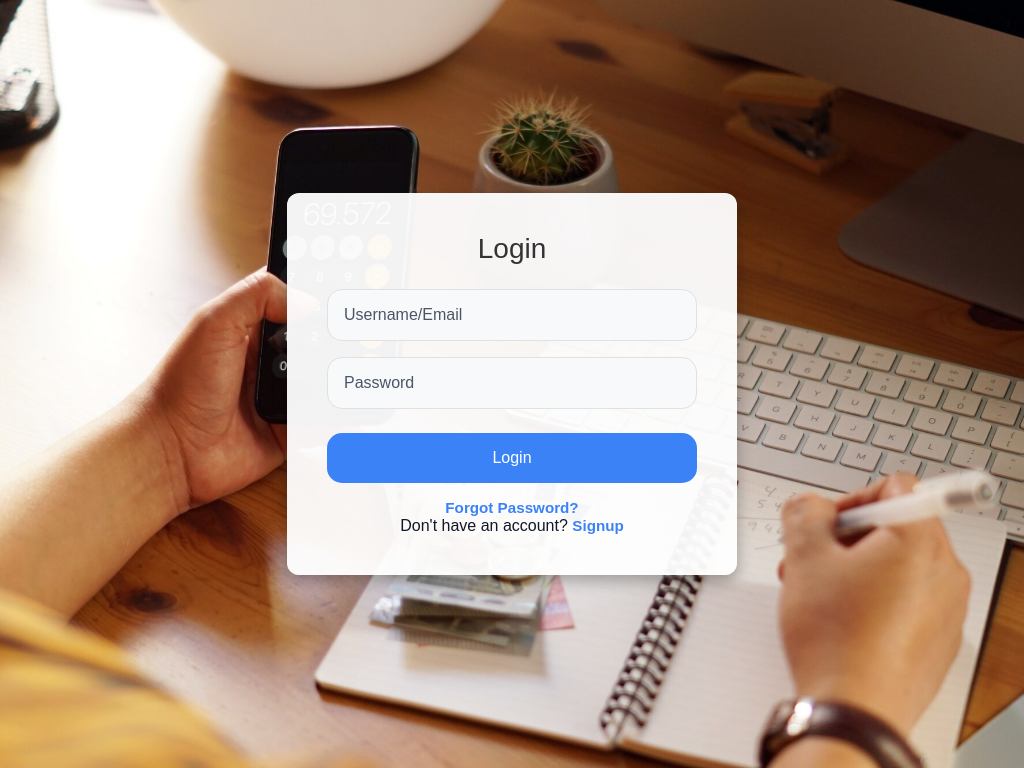
Login Page Tests › should show error for invalid email format
Enter invalid email format
Type "invalidemail" into the field with placeholder "Username/Email" at [512, 315], box [327,289,697,341]
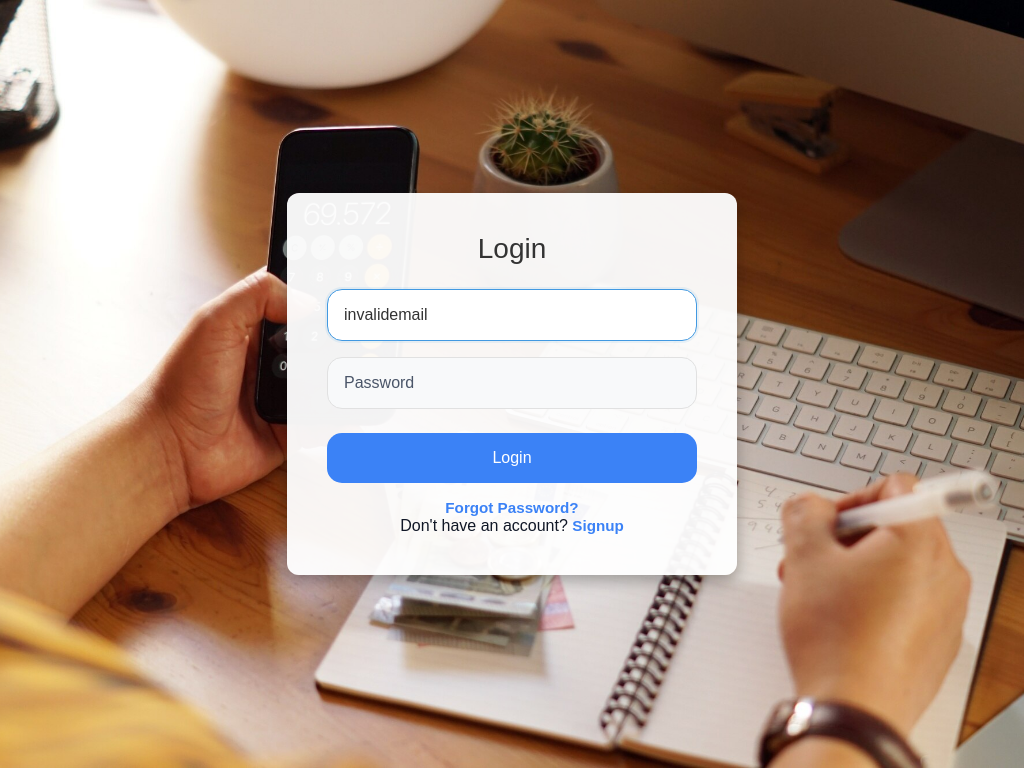
Type "password123" into the password field with placeholder "Password" at [512, 383], box [327,357,697,409]
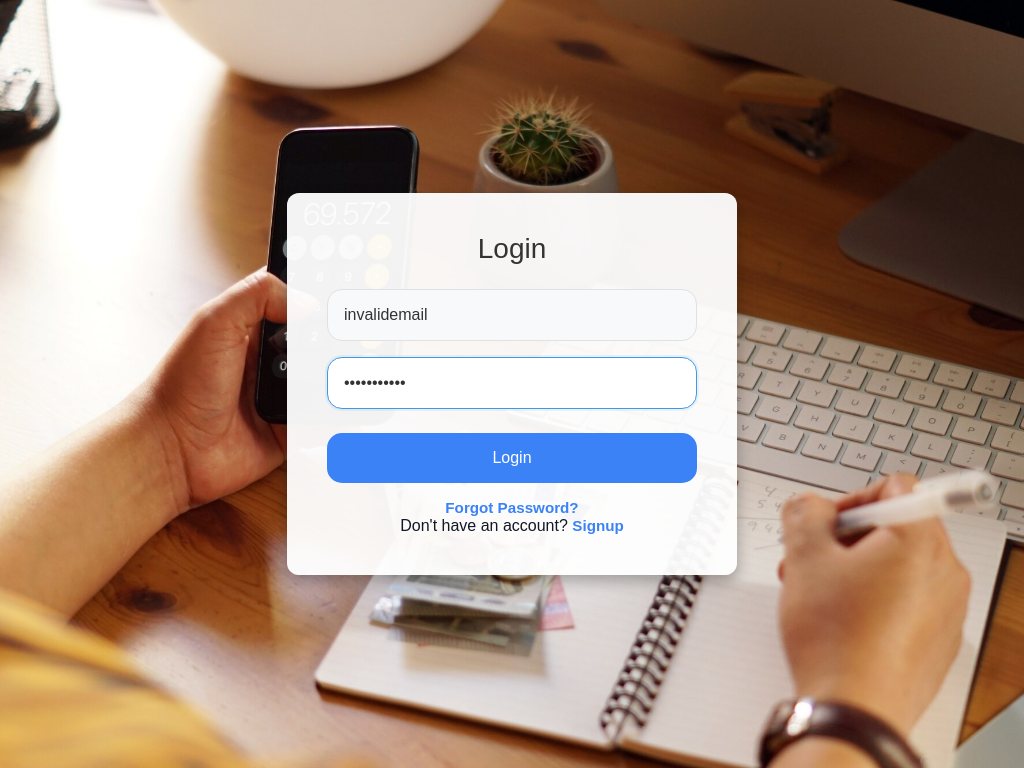
Click the submit button at [512, 458], box [327,433,697,483]
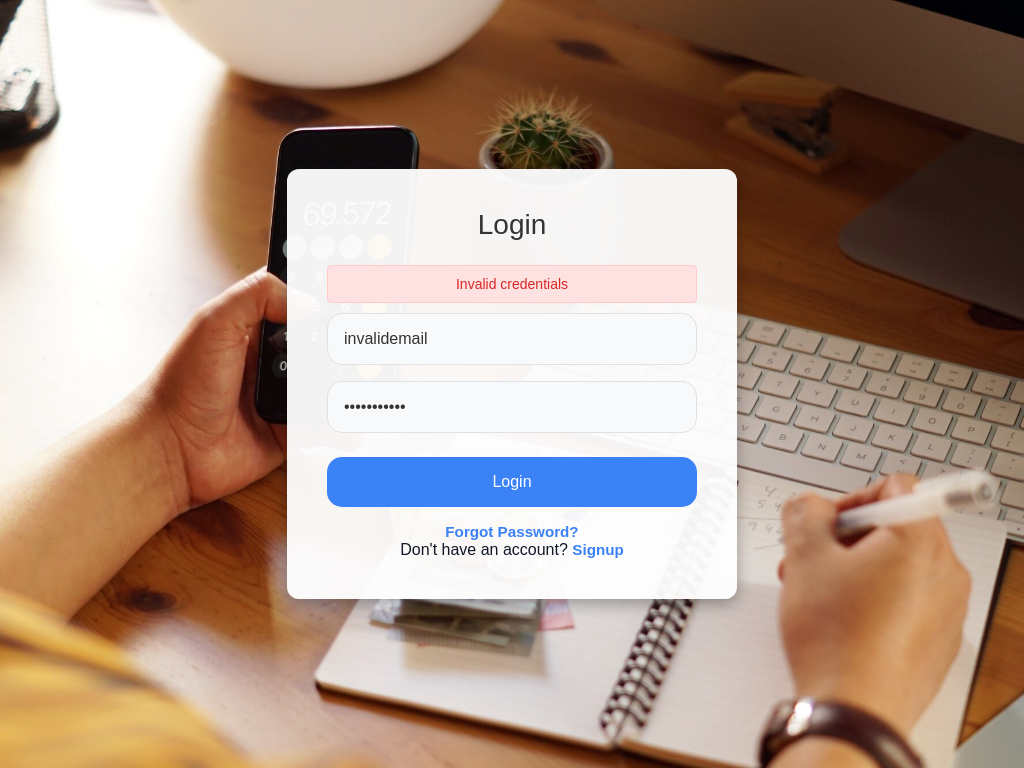
Check: the text "Invalid credentials" is shown, box [327,265,697,303]
